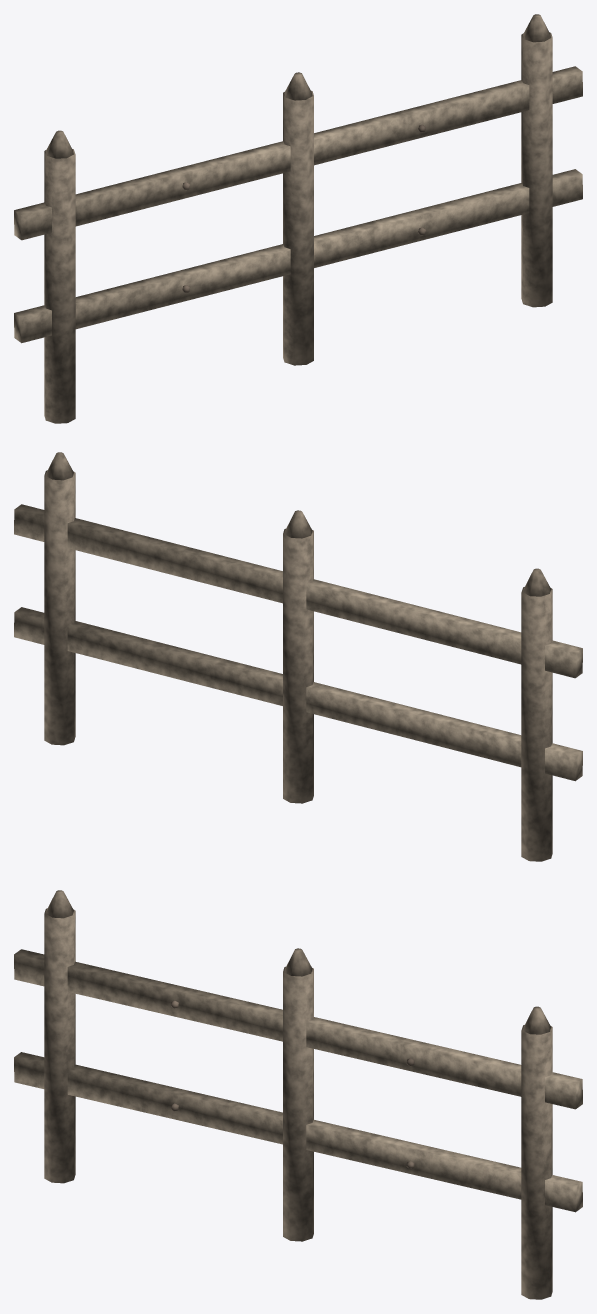
File: prop_pagar_kayu.obj
3 views of the same model, one above another, from view 1: azimuth 30°, elevation 25°; view 2: azimuth 150°, elevation 25°; view 3: azimuth 330°, elevation 25° (orthographic).
Visible parts, largest first — view 1: prop_pagar_kayu; view 2: prop_pagar_kayu; view 3: prop_pagar_kayu.
Boxes of the visible parts, bbox=[...] form: prop_pagar_kayu: bbox=[14, 14, 582, 423]; prop_pagar_kayu: bbox=[14, 452, 582, 861]; prop_pagar_kayu: bbox=[14, 890, 582, 1299].
Size of the model in its own units: 2 by 0.97 by 0.1.
Materials: 1 (1 with a texture image).
